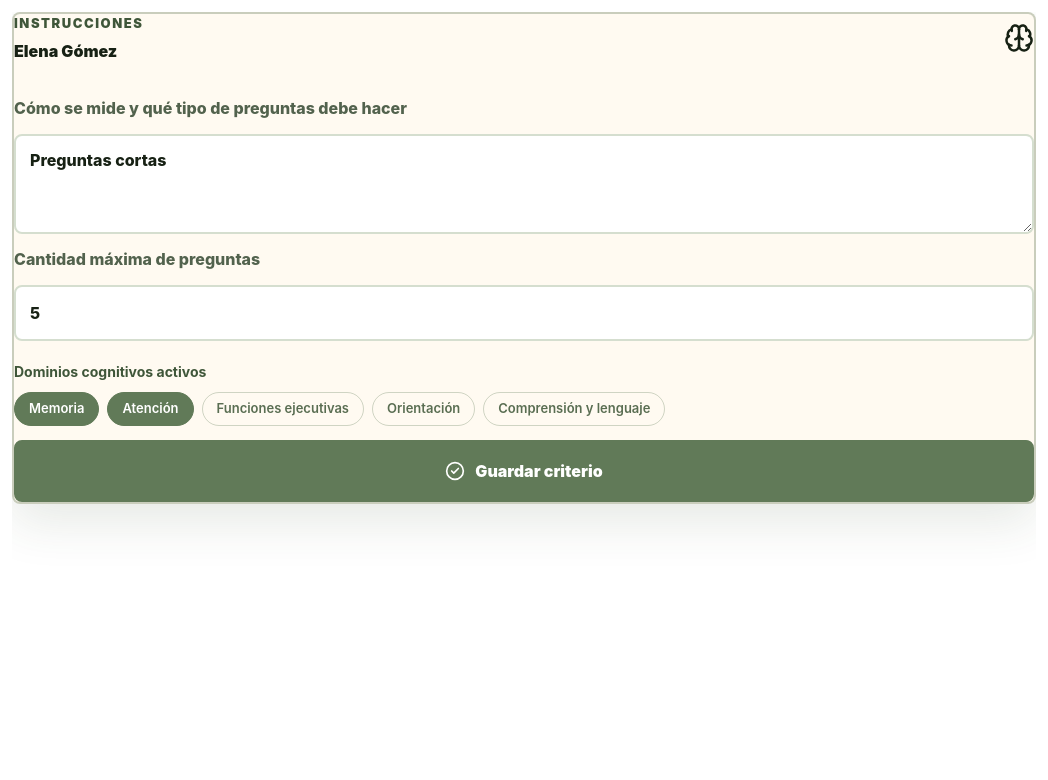
Test: AiConfigPanel › sin dominios activos → error
Click the button "Memoria".
click(57, 409)  # box [14,392,99,426]
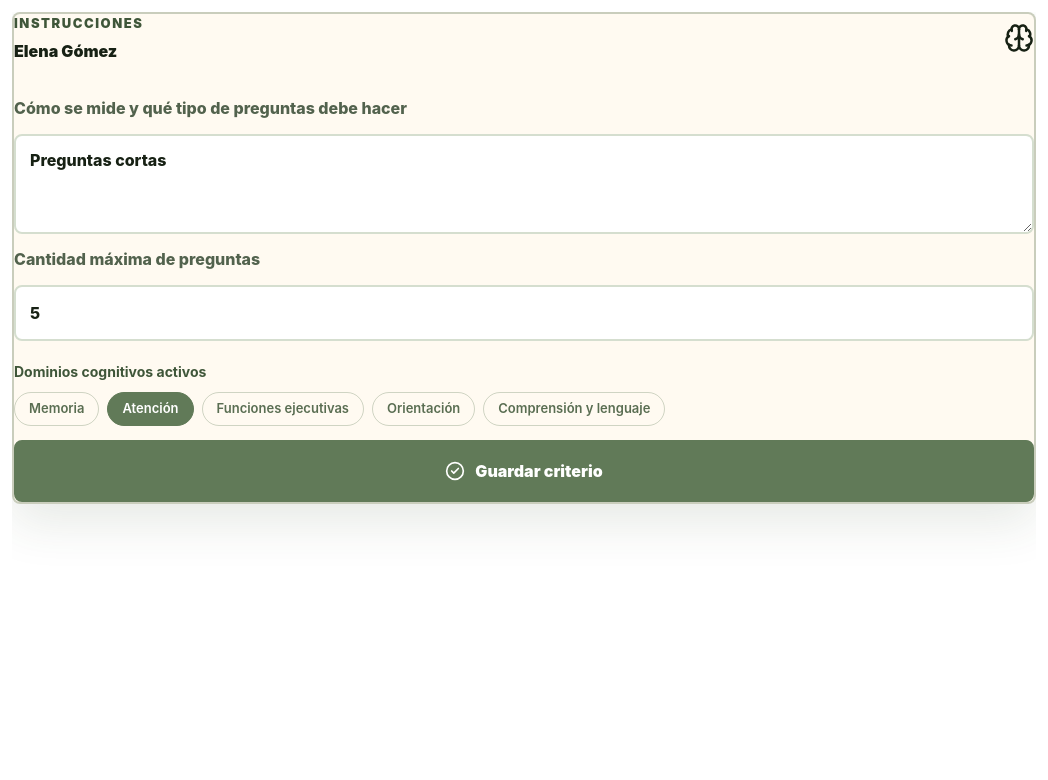
Click the button "Atención".
click(150, 409)  # box [107,392,194,426]
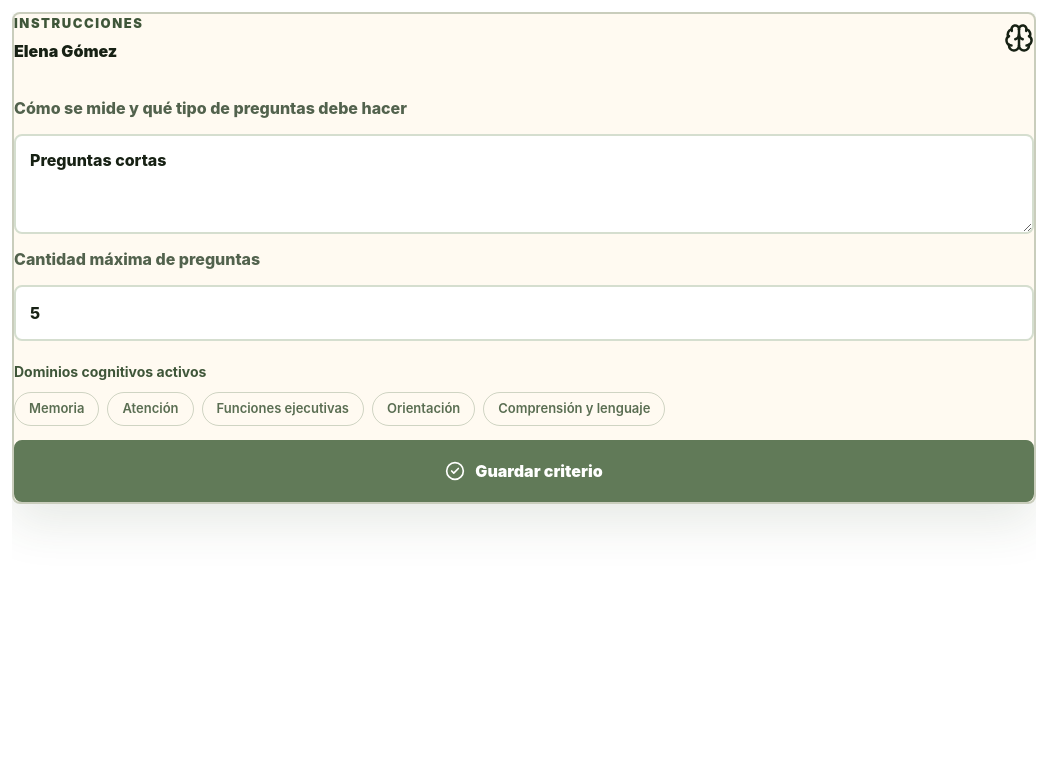
Click the button "Guardar criterio".
click(524, 471)  # box [14,440,1034,502]
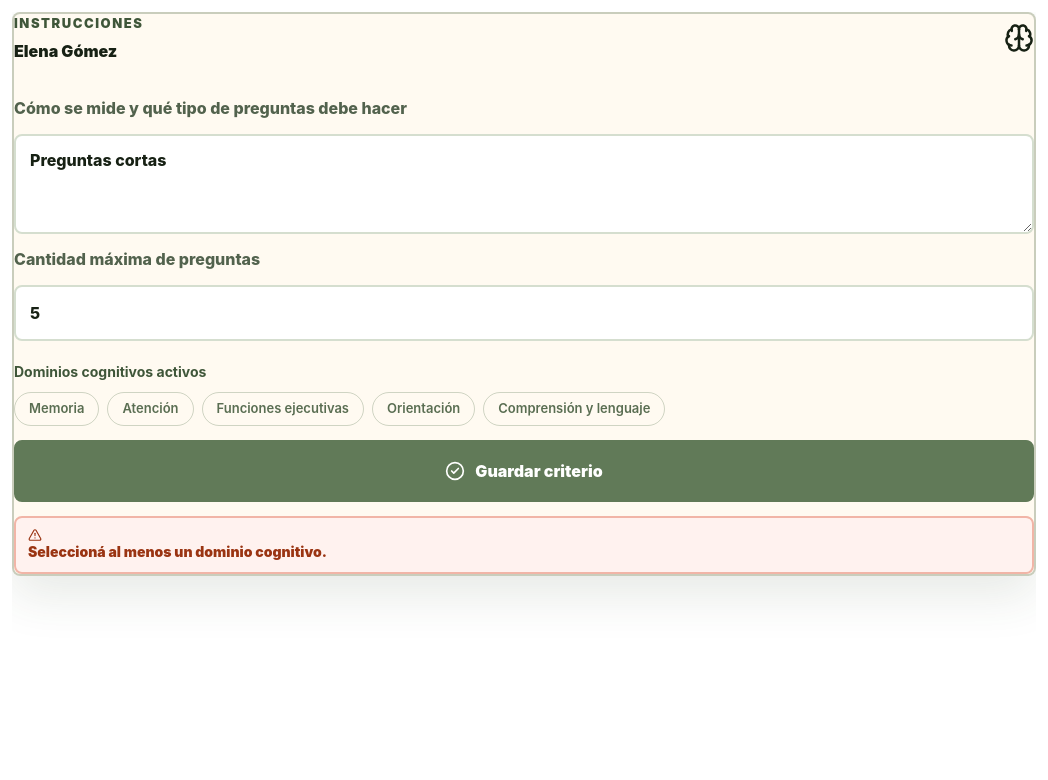
Result: the message shows "al menos un dominio" at [28,543,327,560]
